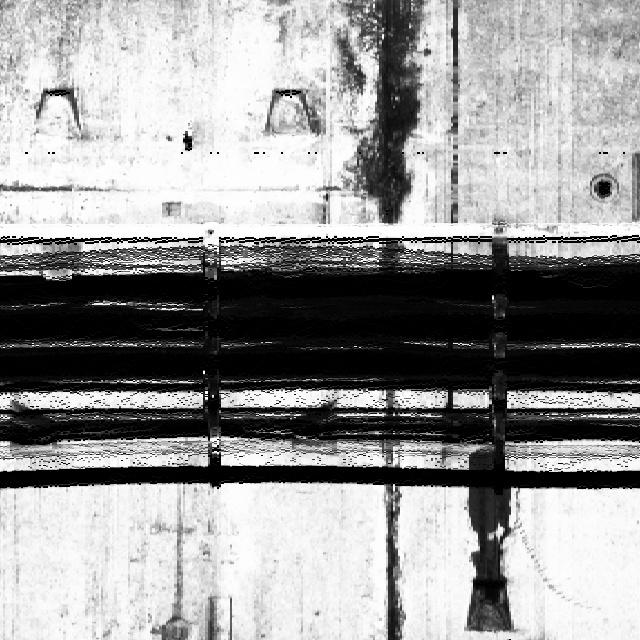leakage: (324, 0, 430, 223), (451, 451, 530, 586)
